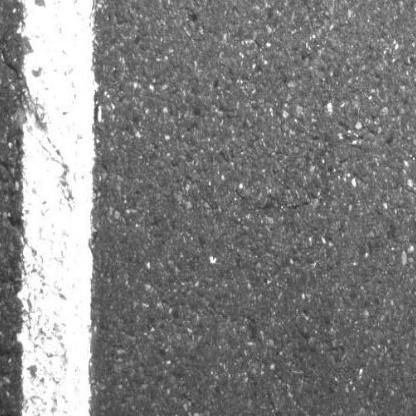Cracks: (0, 292, 24, 416), (0, 23, 24, 81)
